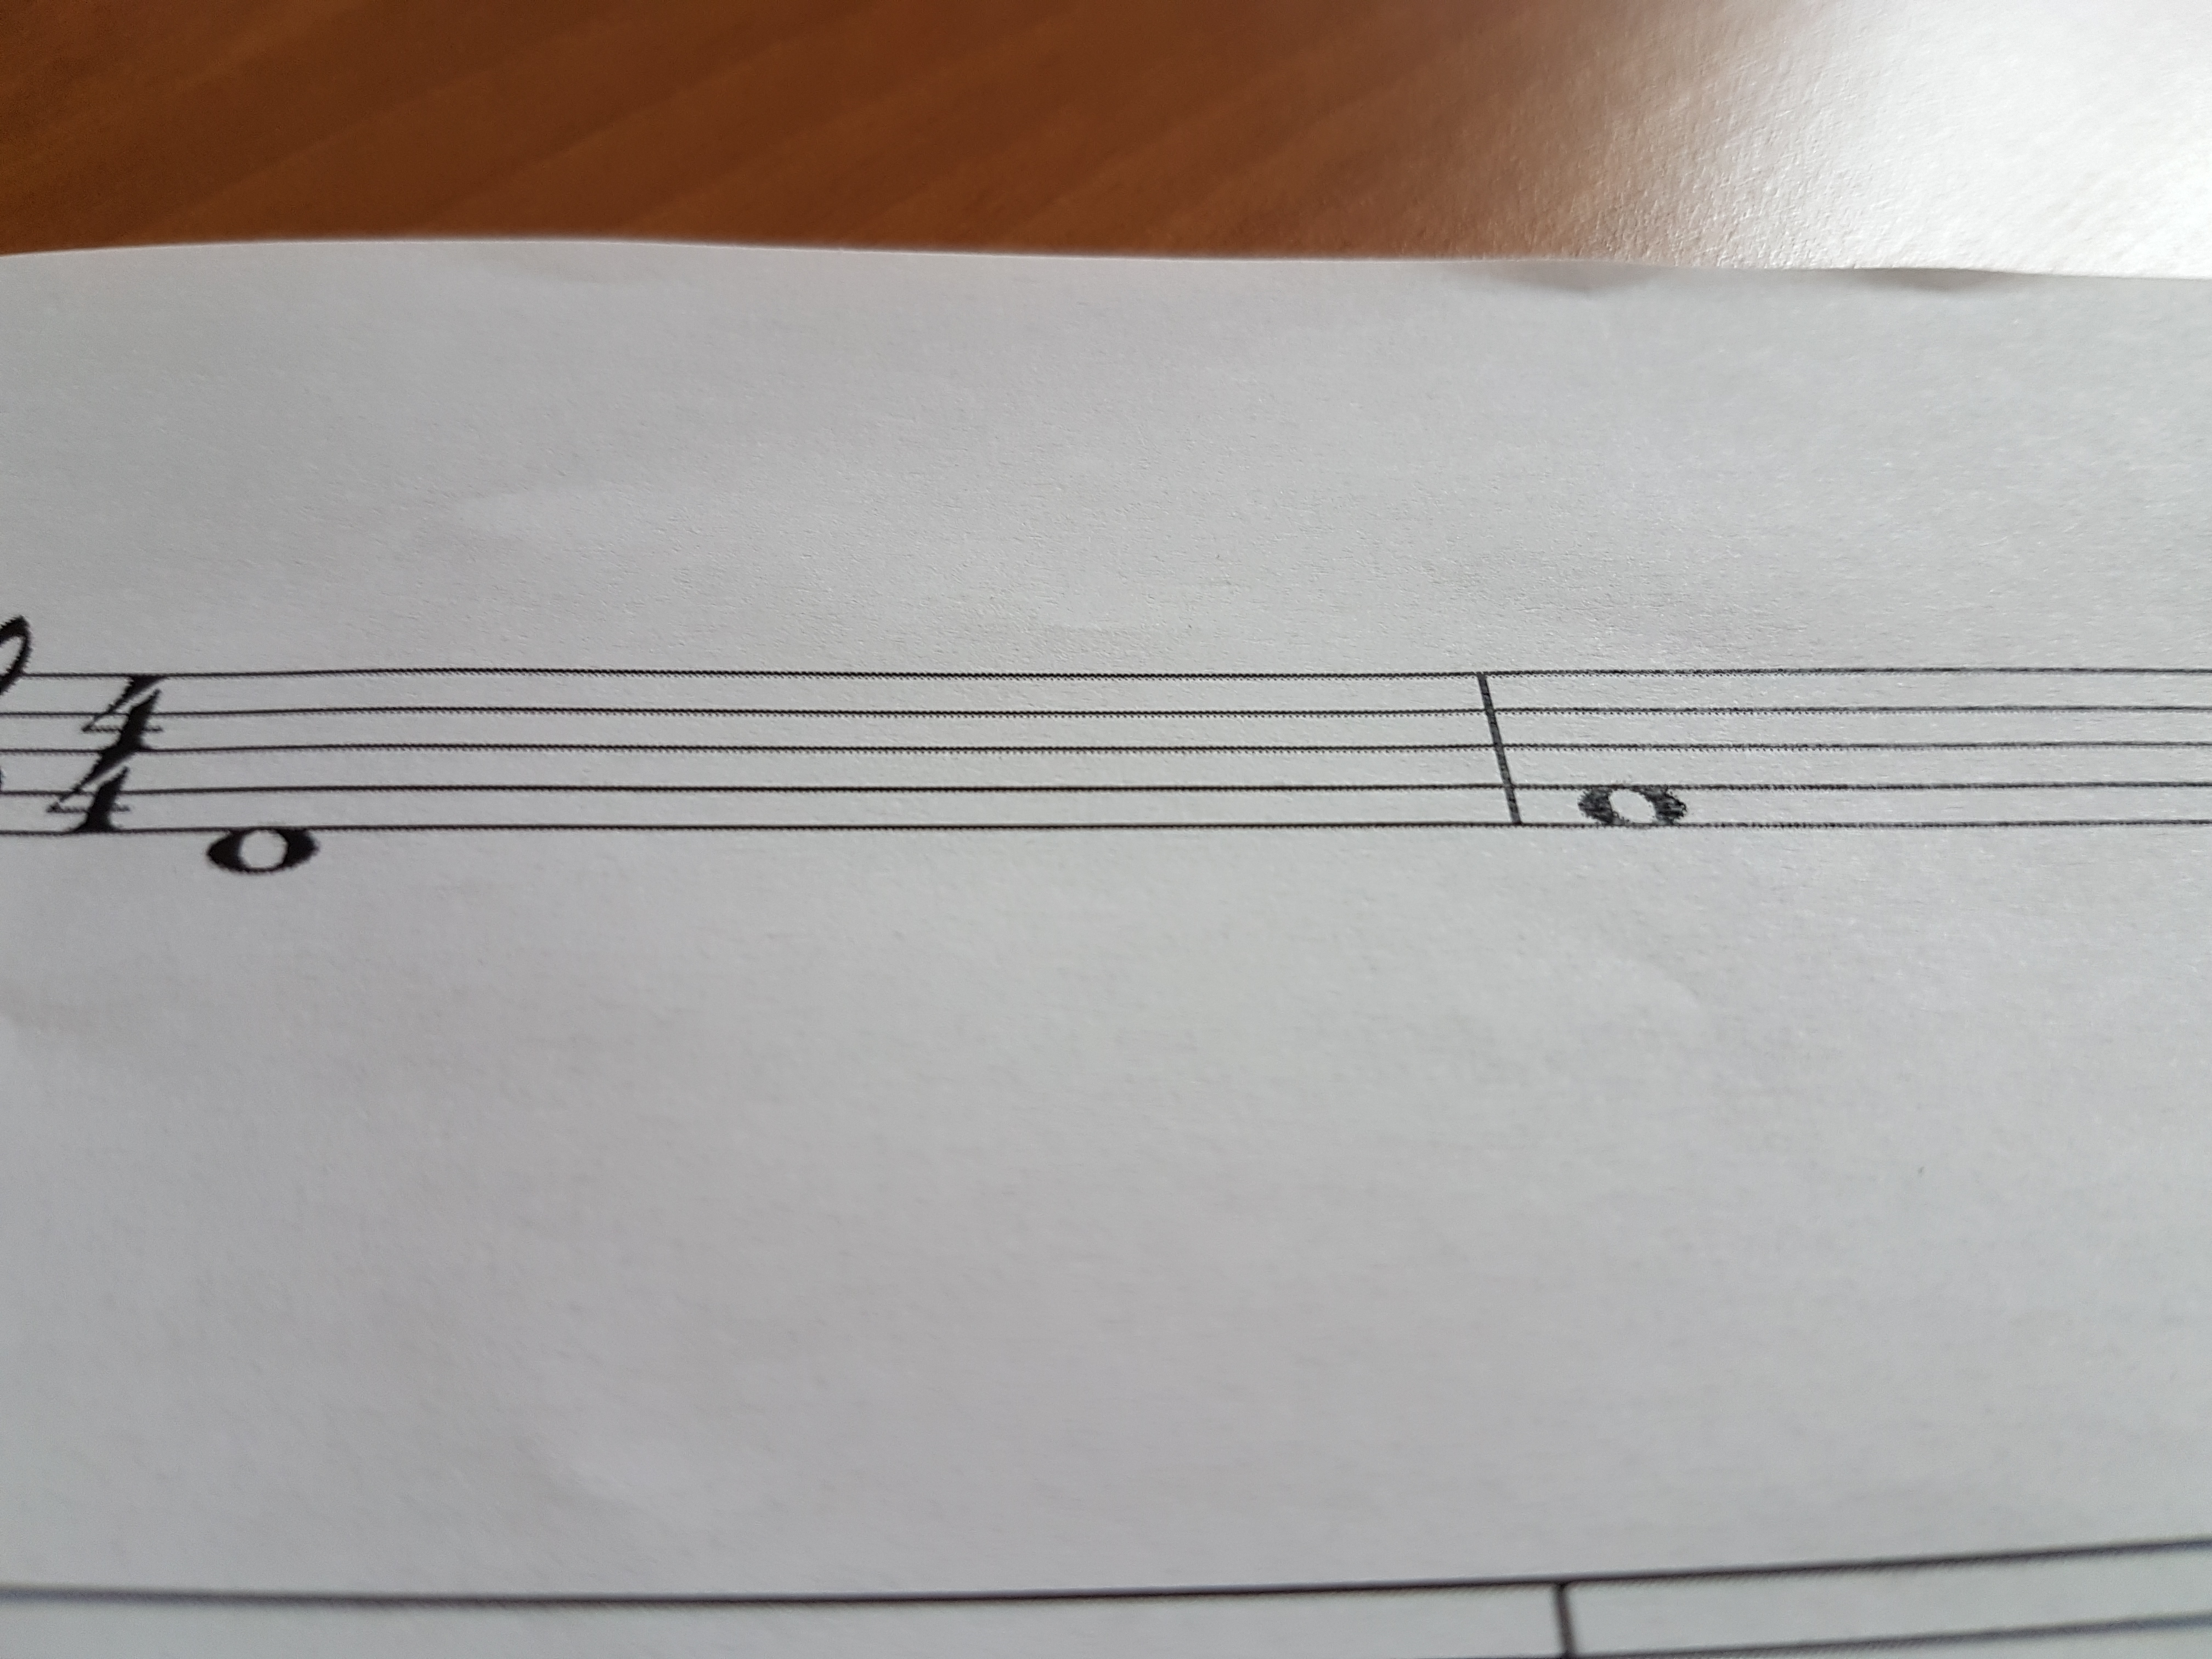pipe: (1461, 647, 1534, 847)
semibreve_d: (193, 636, 326, 918)
semibreve_f: (1559, 633, 1695, 889)
